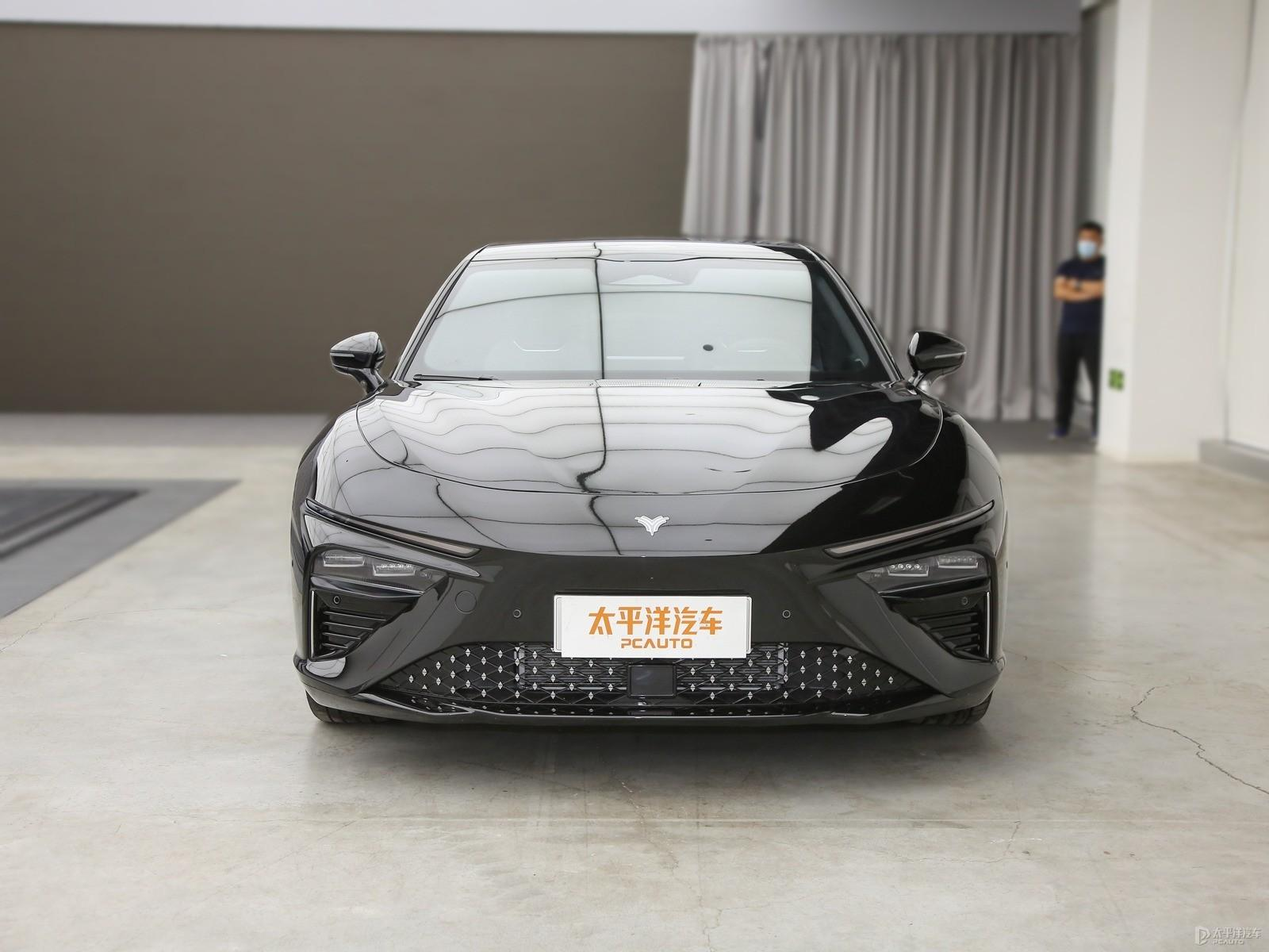NETA: (634, 515, 671, 537)
